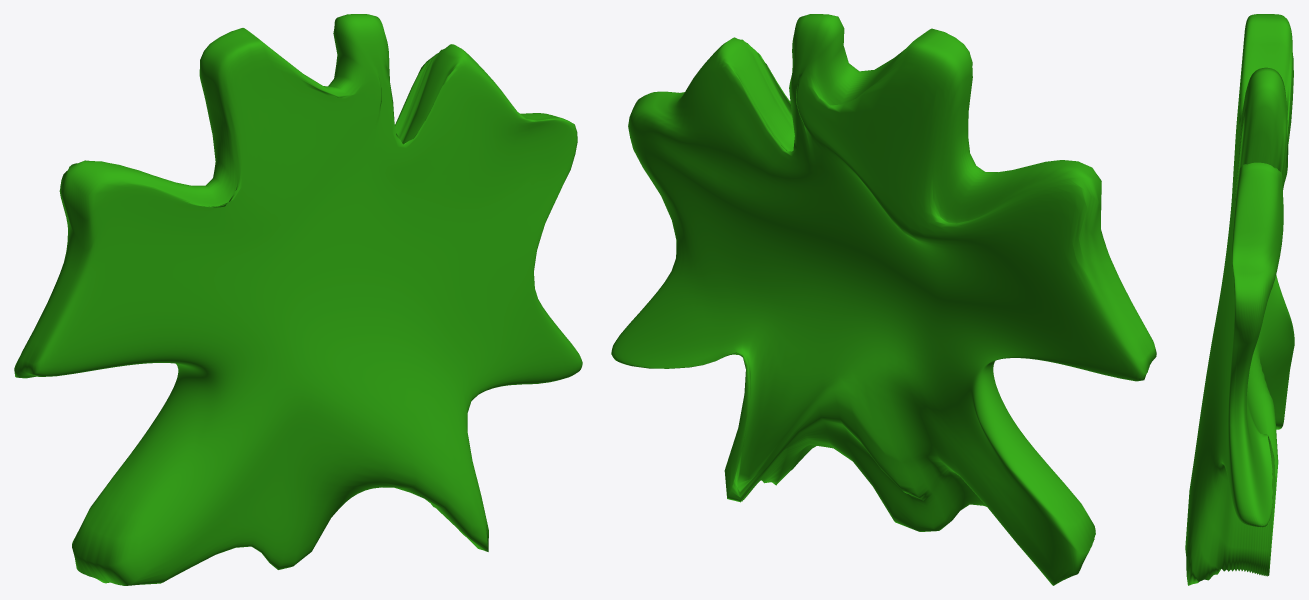
File: StainSplat_Green.fbx
3 renders of one model, left to right at view 1: azimuth 30°, elevation 25°; view 2: azimuth 150°, elevation 25°; view 3: azimuth 270°, elevation 25°, orthographic. The views are drawn at different scales.
Visible parts, largest first — view 1: Box012; view 2: Box012; view 3: Box012.
Part boxes in pixels (<box>): Box012: <box>14,14,582,585</box>; Box012: <box>611,14,1156,585</box>; Box012: <box>1185,14,1294,585</box>.
Bounding box in the file's own units: 15.34 × 14.11 × 2.92.
